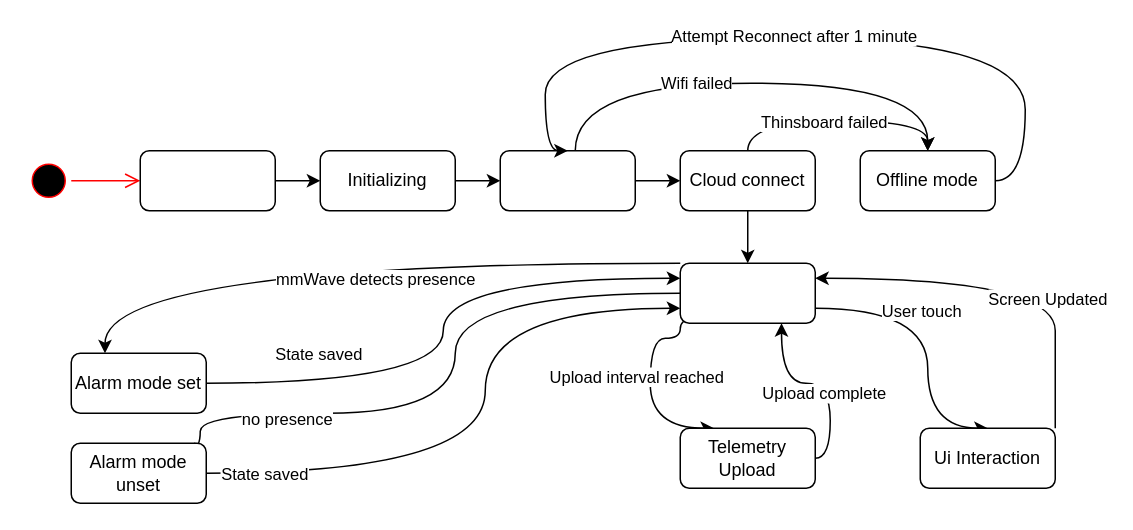
Some shapes in this 1133 by 530 pixel diagram are drawn without their labels. Each missing label, with the centre of its shape:
Boot: (207,180)
Normal Monitoriring: (747,292)
Wifi connect: (567,180)
